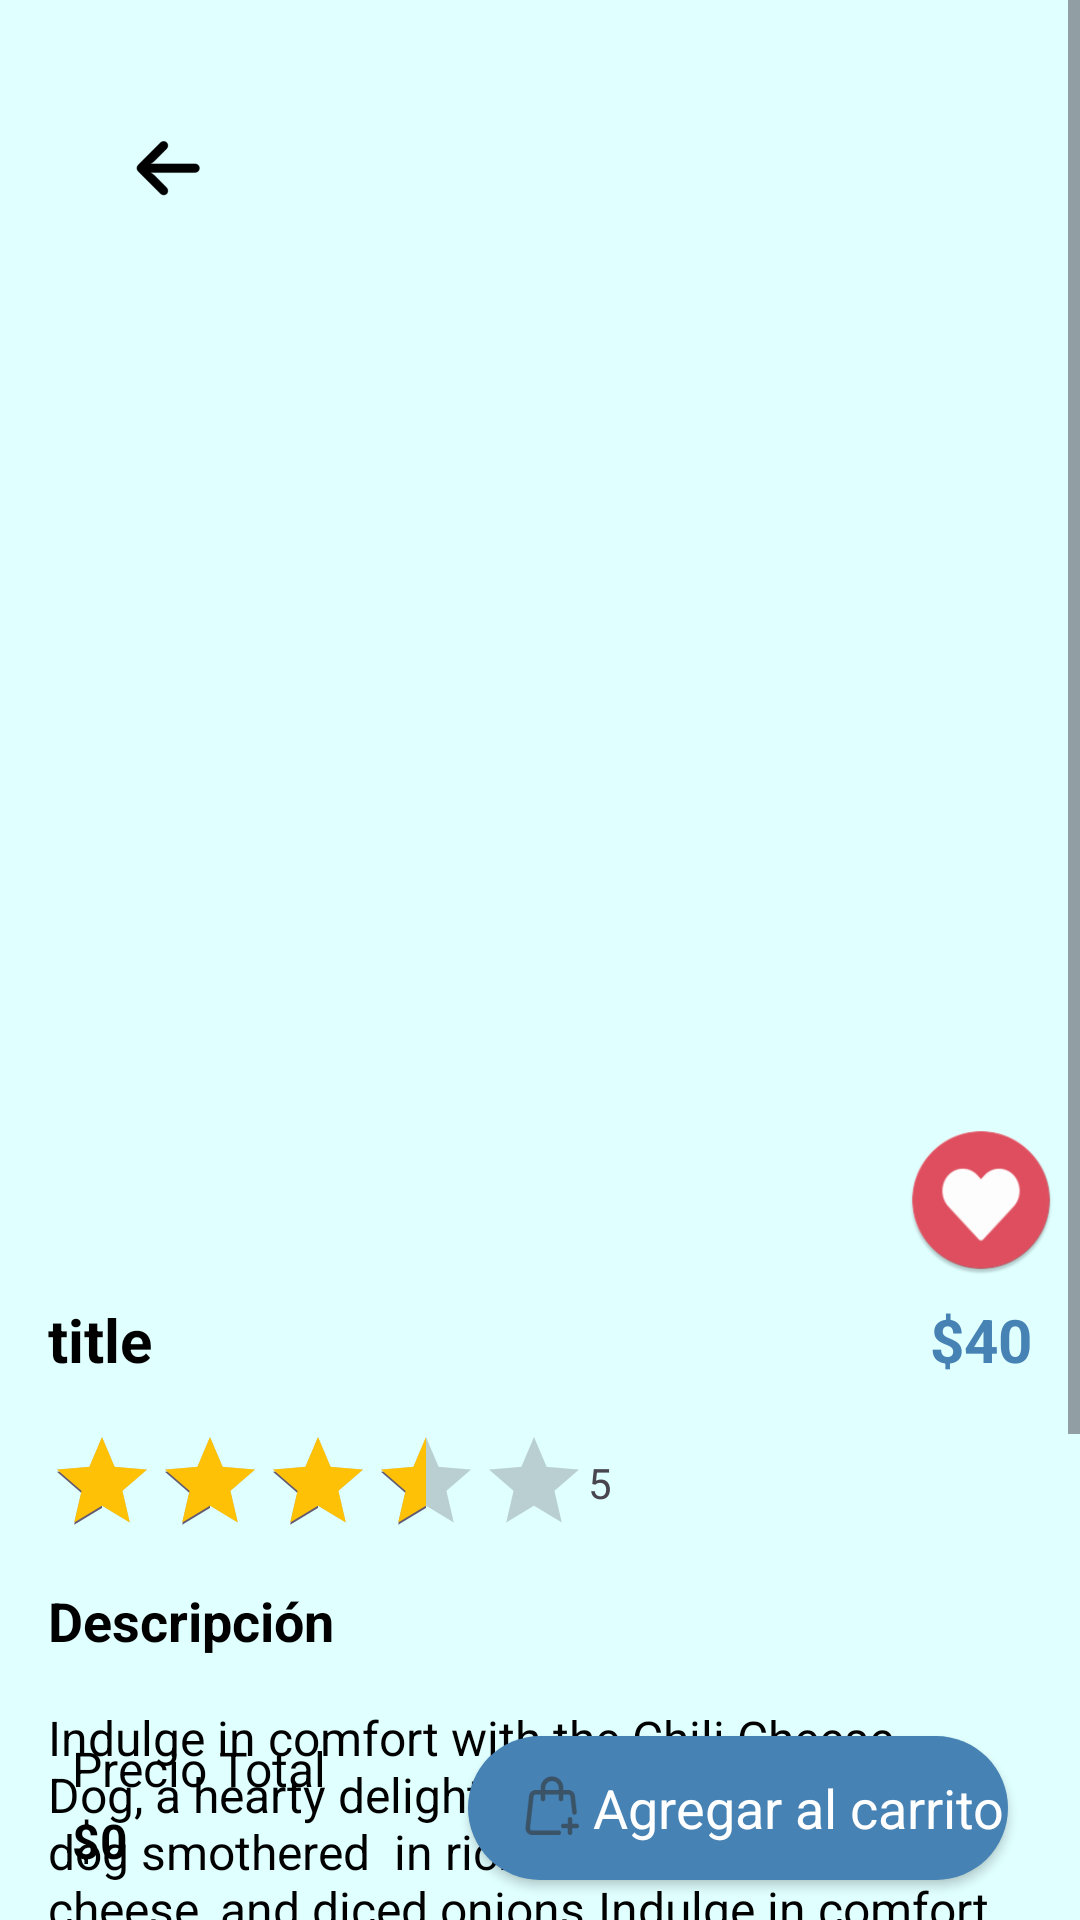

Icons on this 1080×1920 Android screen, each with the point to tap as (x,y):
arrow: (168,168)
favorite: (981,1201)
